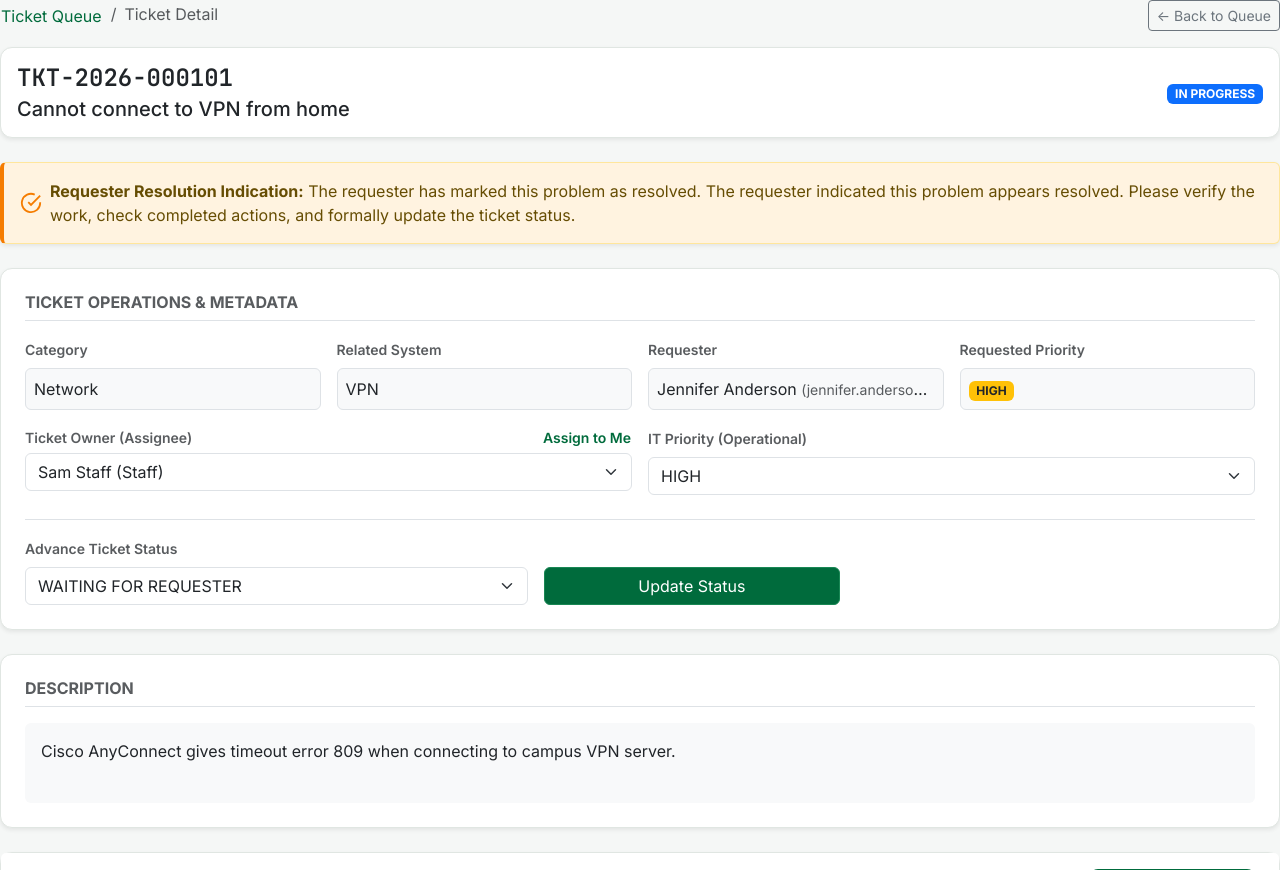
Test case: StaffTicketDetail Component Tests (UI-04, UI-05) › UI-04: Staff Ticket Detail Actions & Operational Controls (AC-08, AC-09, AC-10) › displays resolution summary input when transitioning to RESOLVED and updates status (AC-10)
# Select RESOLVED
Step 1. Select "RESOLVED" in the dropdown with test id "status-select" → (277, 586), box x1=25 y1=567 x2=528 y2=605
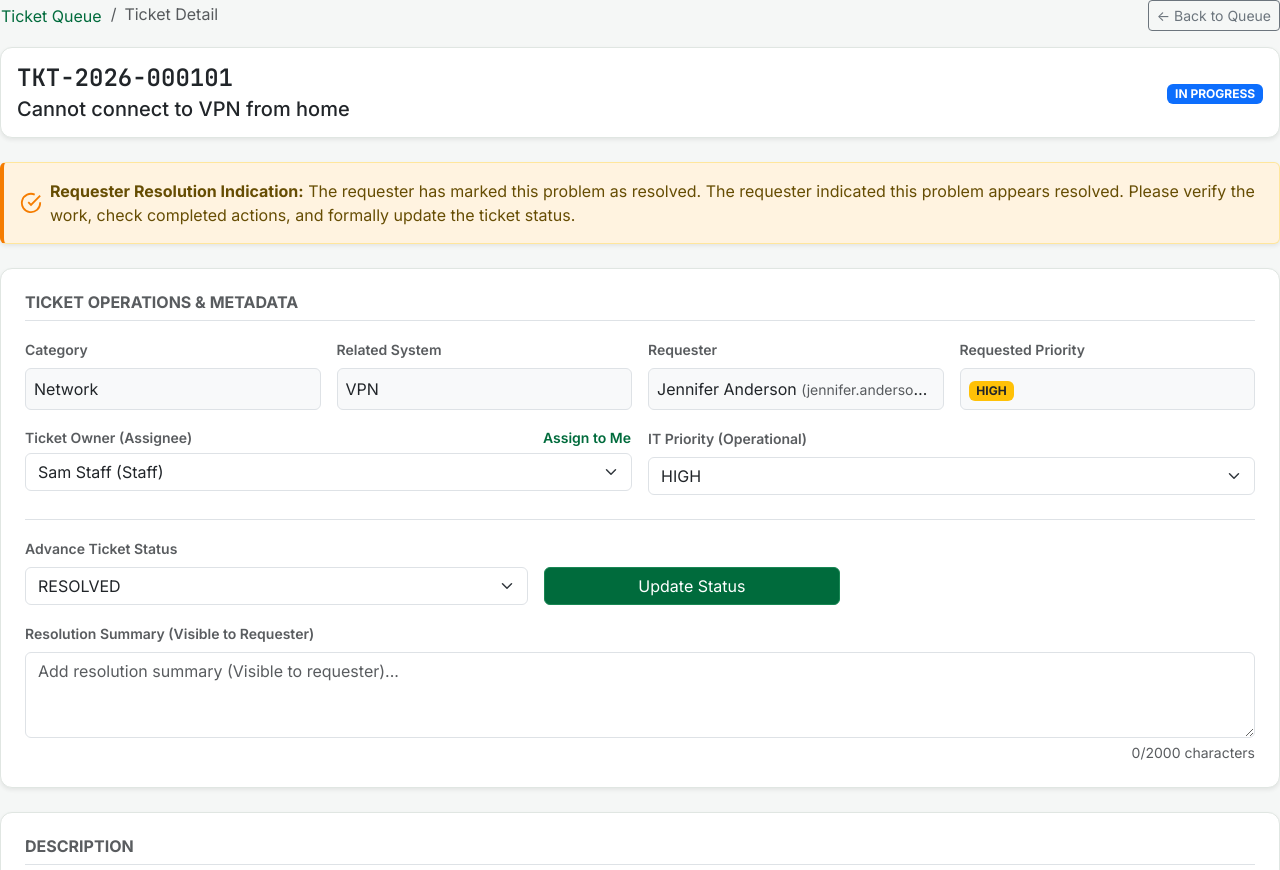
Now the text box with test id "resolution-summary-input" is shown
Step 2. Type "Restarted authentication proxy daemon." into the text box with test id "resolution-summary-input" → (640, 695), box x1=25 y1=652 x2=1255 y2=738
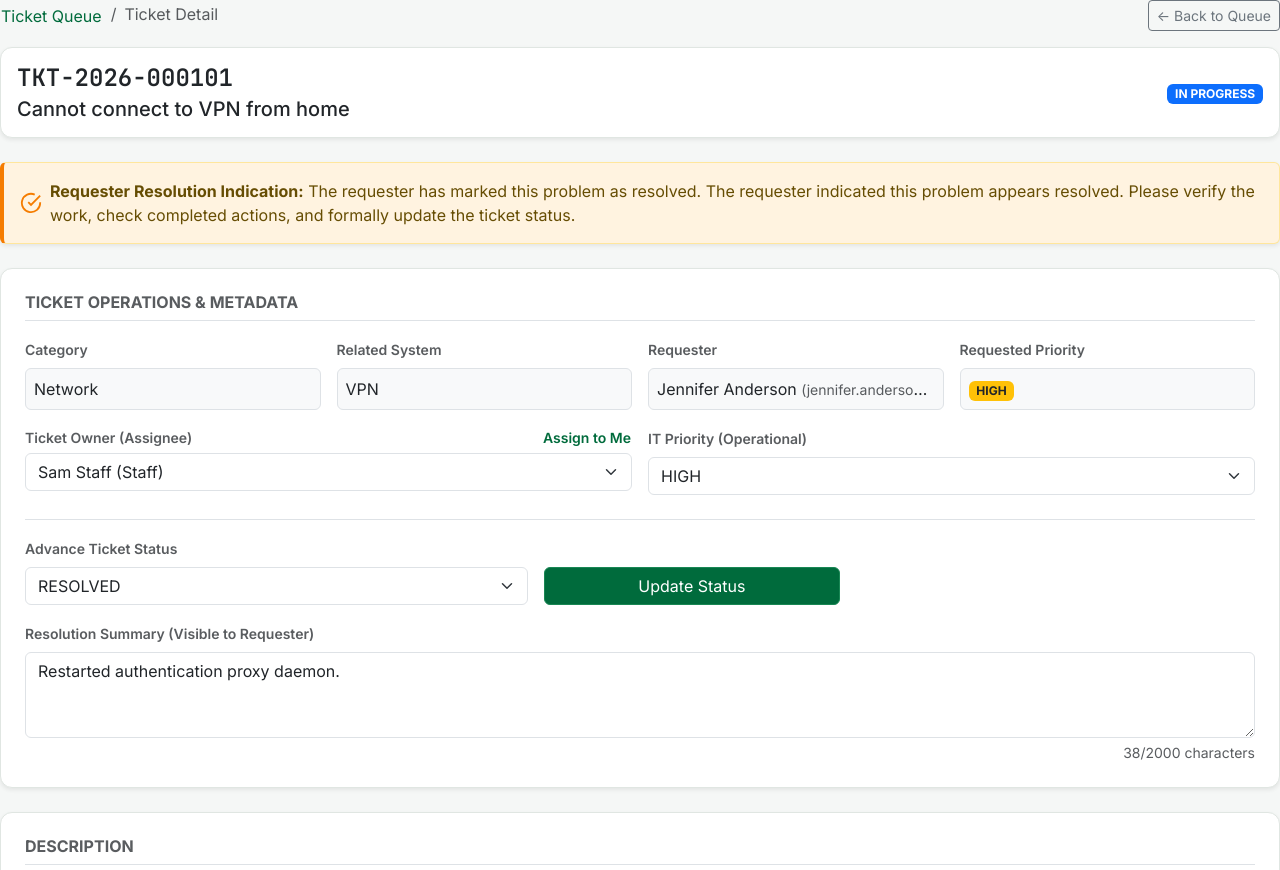
# Click Update Status
Step 3. Click the button with test id "update-status-btn" → click(692, 586), box x1=544 y1=567 x2=840 y2=605
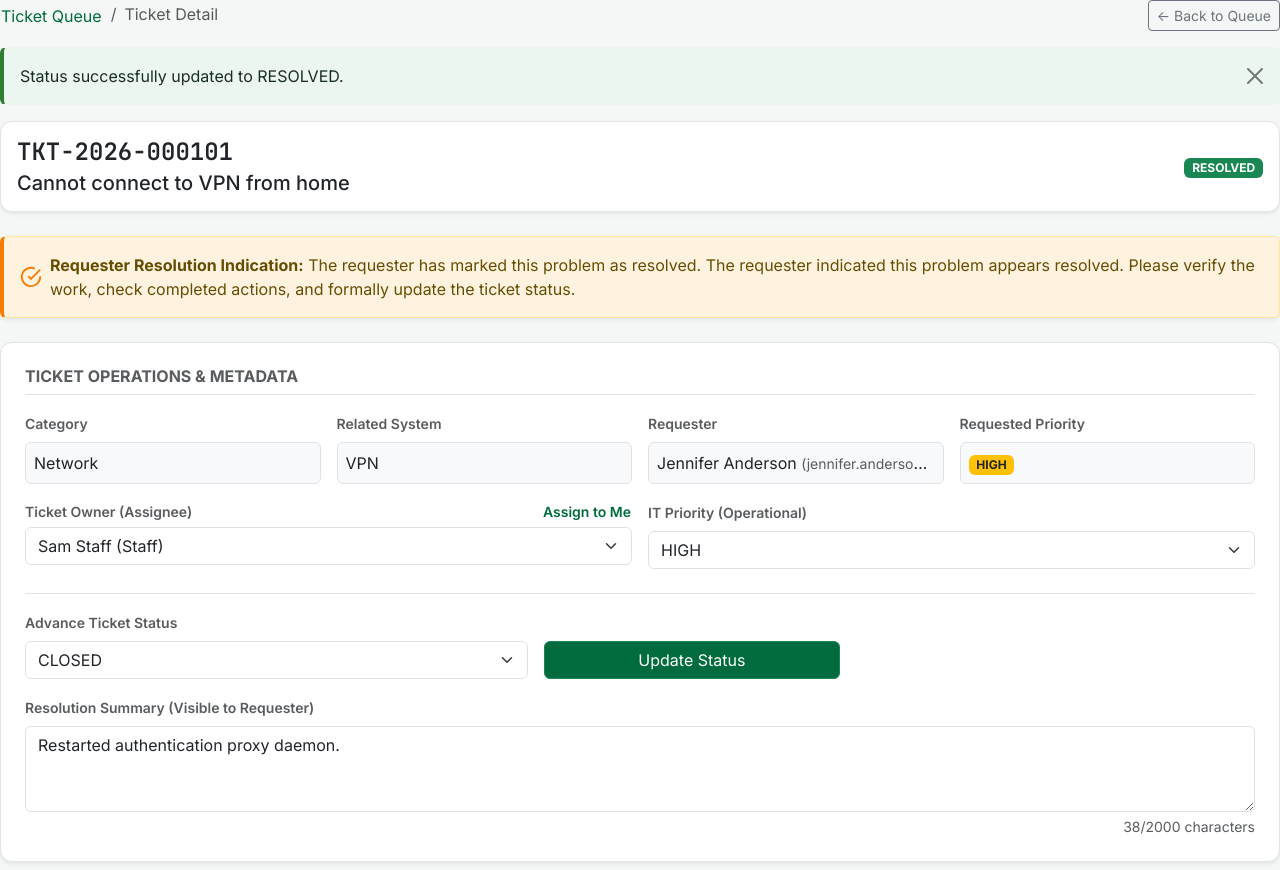
Now the message with test id "success-banner" shows "Status successfully updated to RESOLVED", box x1=20 y1=66 x2=344 y2=86
